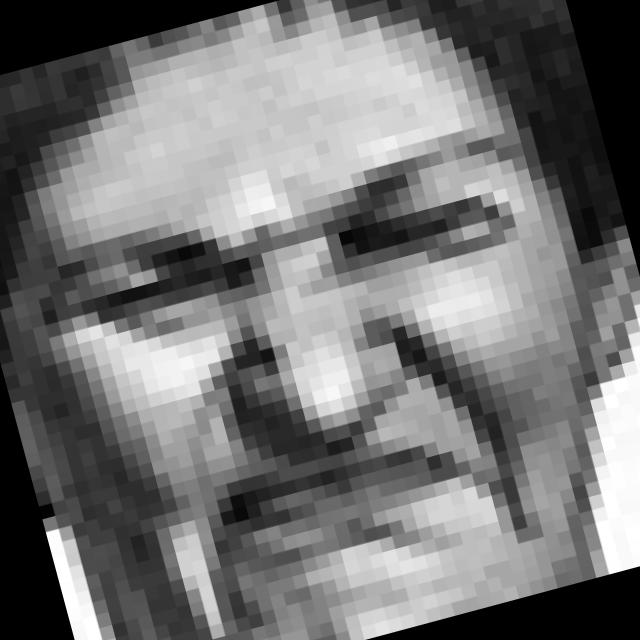disgust: (18, 111, 633, 640)
